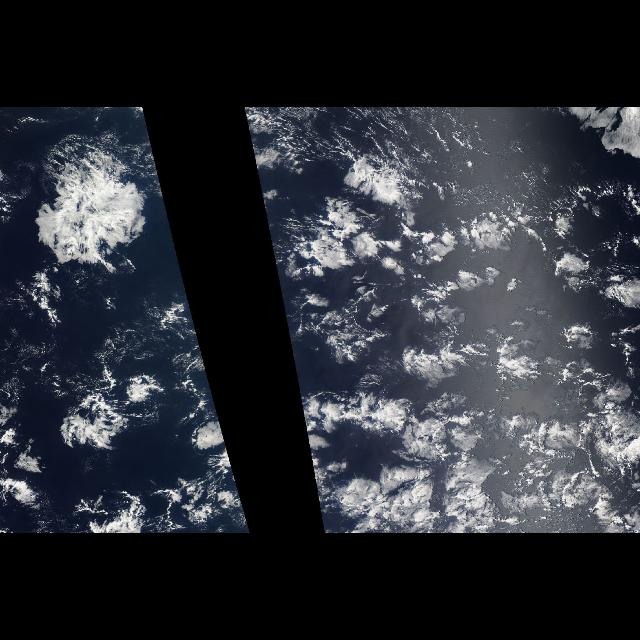Flower: (249, 134, 631, 534), (18, 134, 252, 534)
